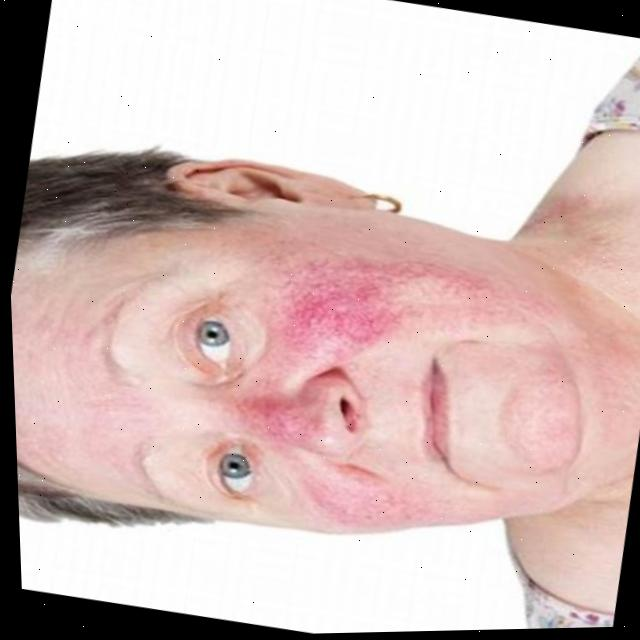Rosacea: (277, 259, 406, 373), (222, 387, 302, 453), (290, 472, 378, 530)
